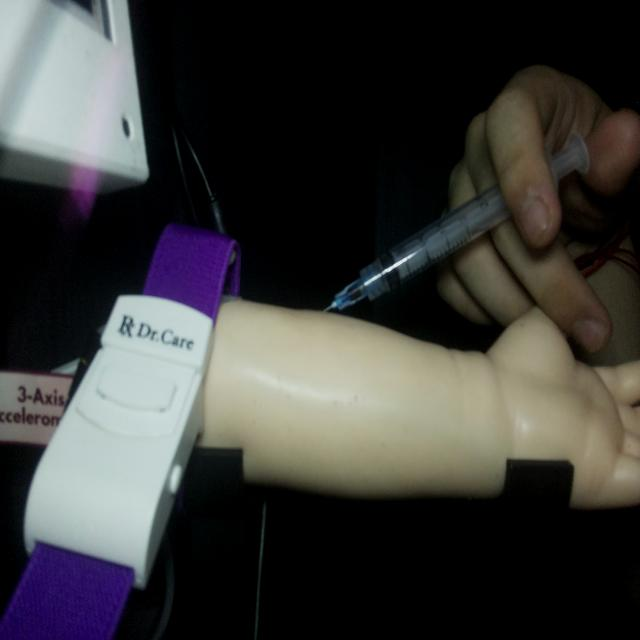24 degrees: (321, 129, 591, 316)
